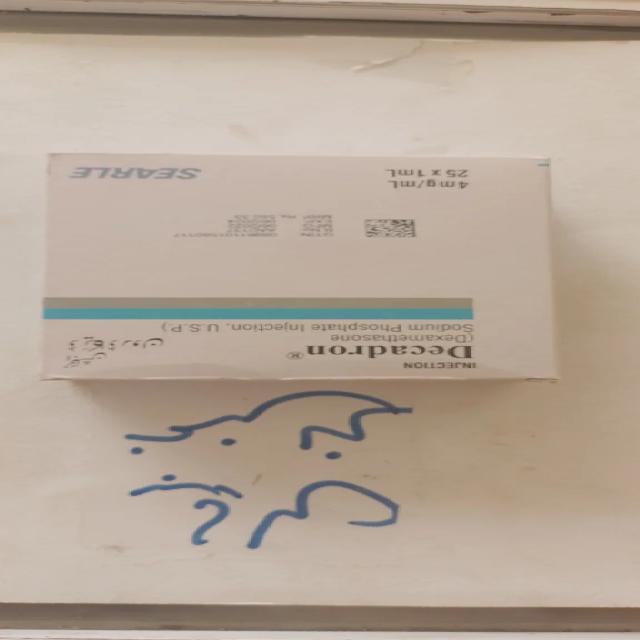drug-name: (302, 342, 474, 360)
